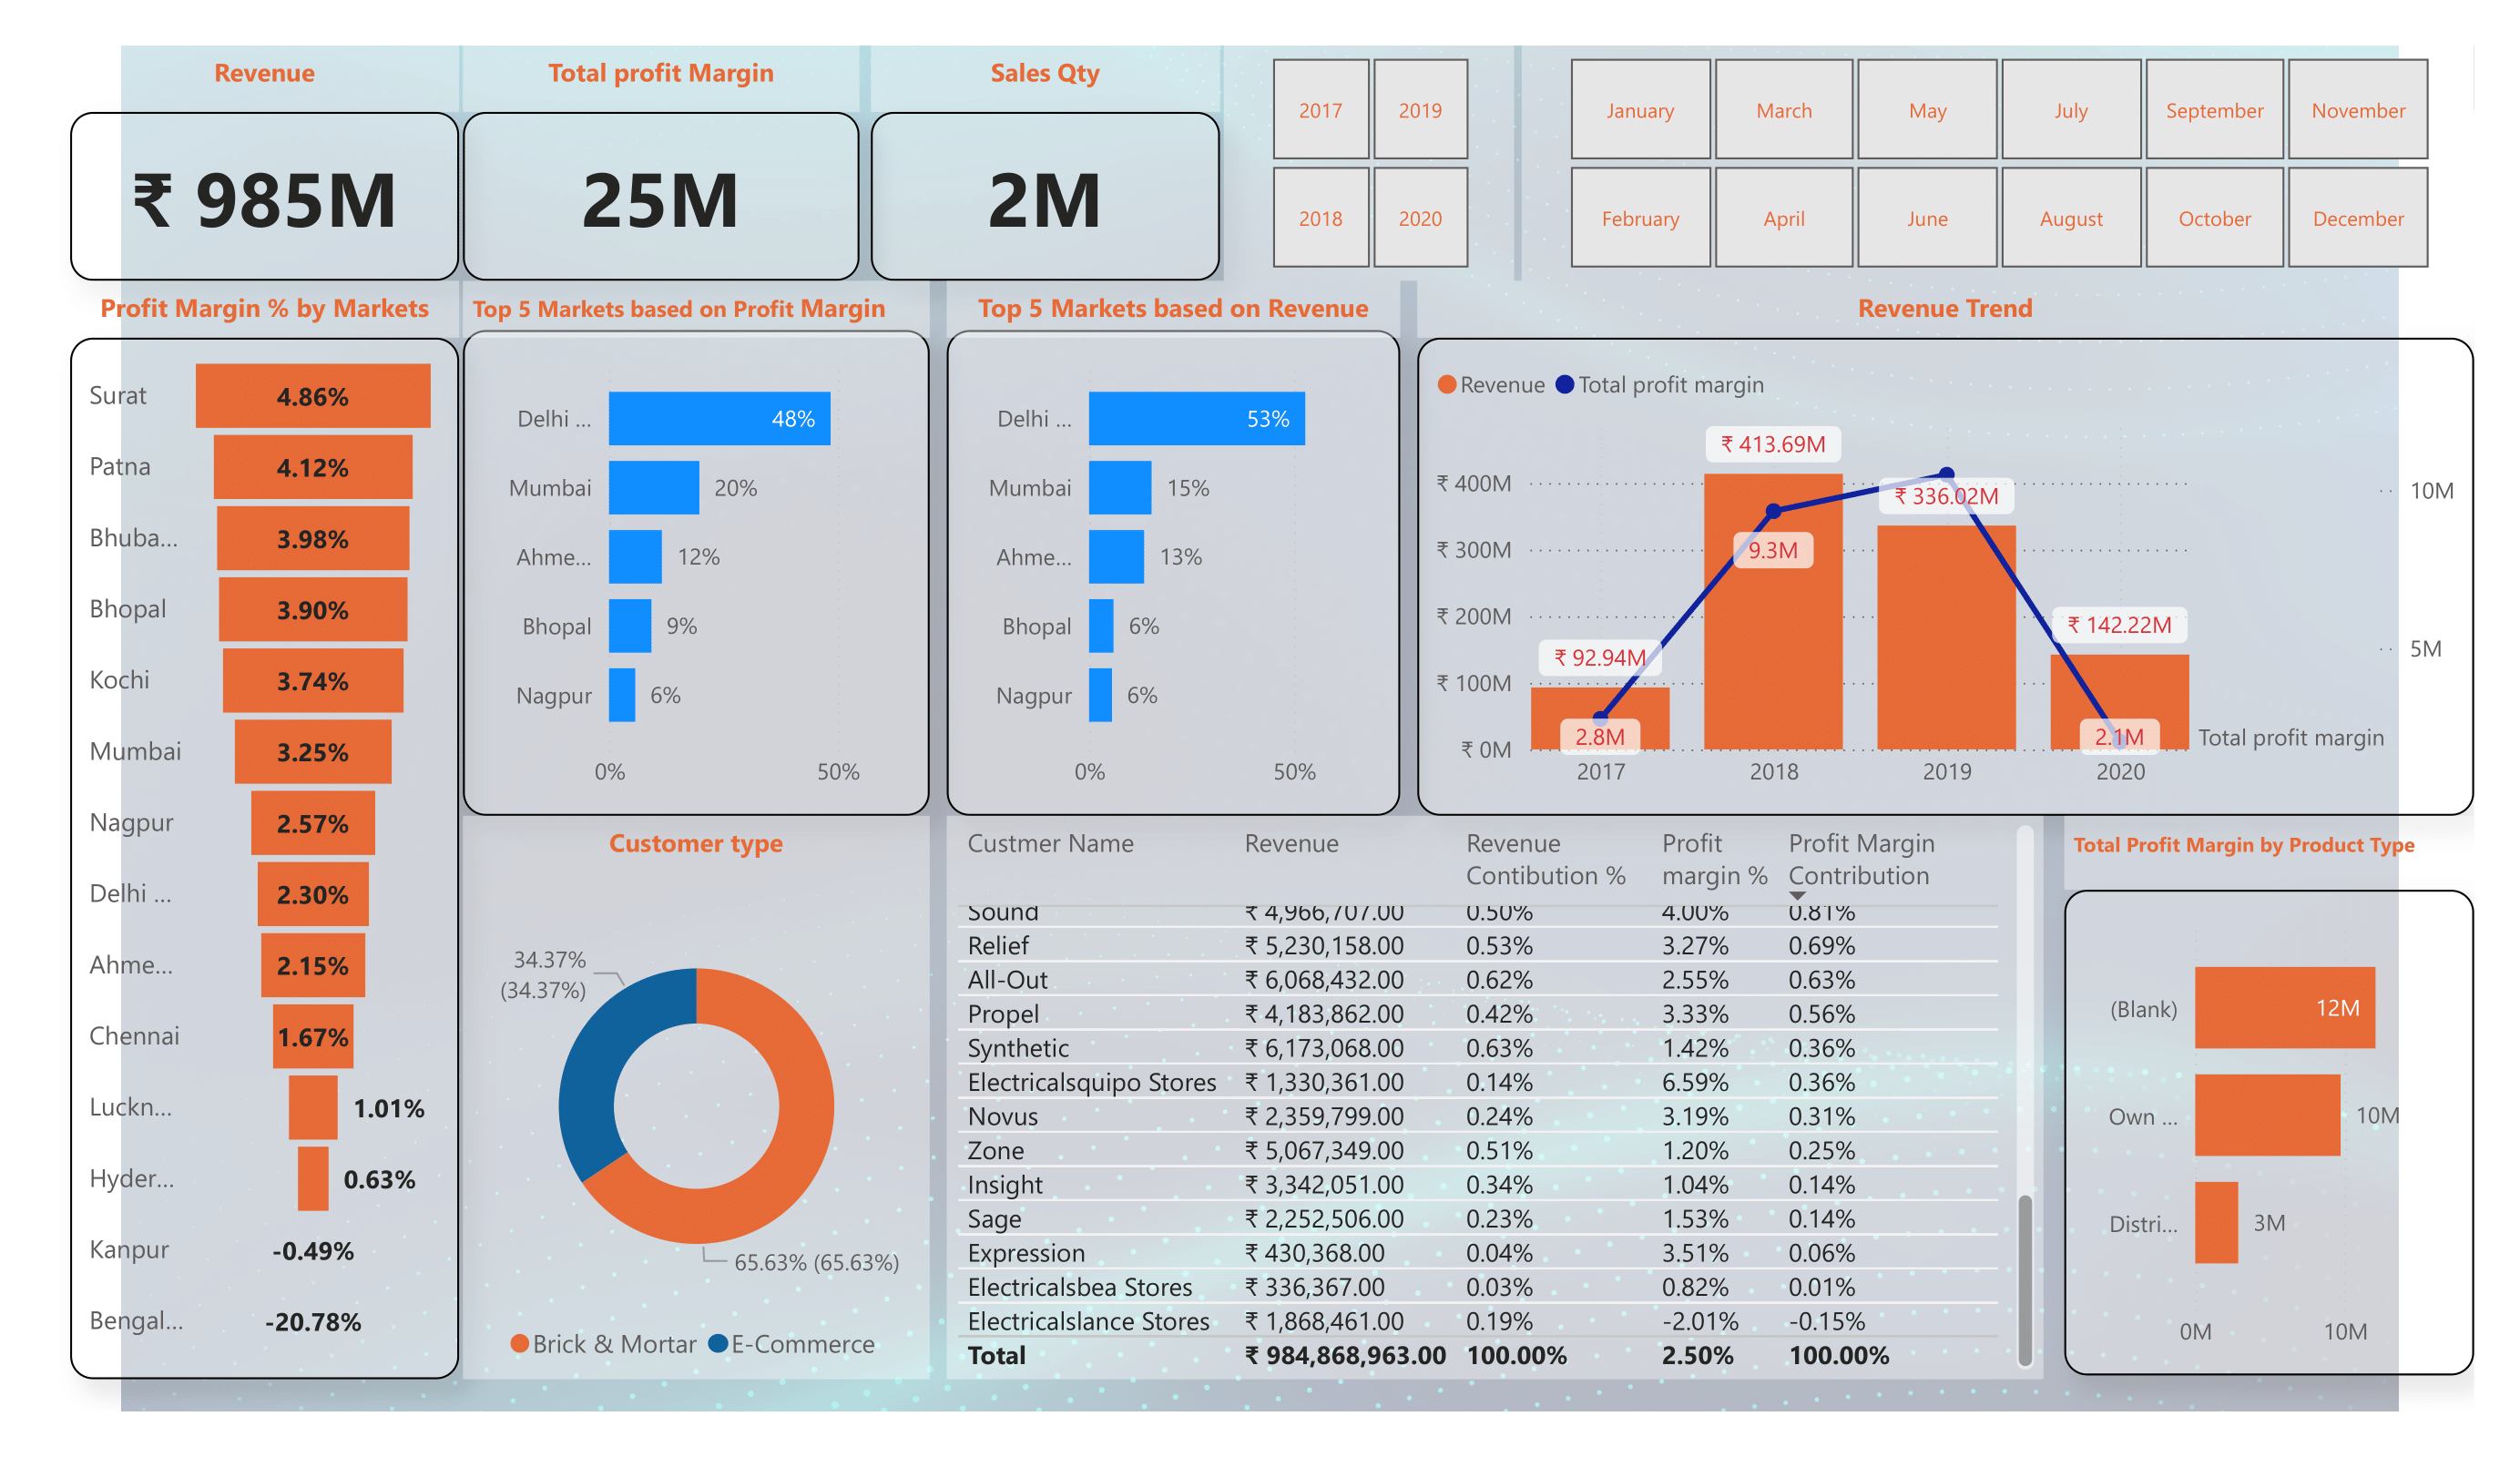

What the dashboard file says about the page in this screenshot:
{"tool":"powerbi","page":{"name":"Updated Report","canvas":[1280,720],"ordinal":1},"visuals":[{"type":"card","fields":{"Values":["measure.Revenue"]},"box":[12.5,35,205,88.8],"z":0},{"type":"card","fields":{"Values":["measure.Sales Qty"]},"box":[435,35,183.8,88.8],"z":1000},{"type":"funnel","title":"Revenue by Market","fields":{"Category":["markets.markets_name"],"Y":["measure.Profit margin %"]},"box":[12.5,153.8,205,548.8],"z":2000},{"type":"barChart","title":"Top 5 Customer by revenue","fields":{"Category":["markets.markets_name","markets.zone"],"Y":["measure.PROFIT AMRGIN CONTRUBATION %"]},"box":[220,150,246.2,256.2],"z":6000},{"type":"barChart","title":"Top 5 Products","fields":{"Category":["products.product_type"],"Y":["measure.Total profit margin"]},"box":[1063.8,445,216.2,256.2],"z":7000},{"type":"lineStackedColumnComboChart","title":"Revenue Trend","fields":{"Category":["date.year"],"Y":["measure.Revenue"],"Y2":["measure.Total profit margin"]},"box":[722.5,153.8,557.5,252.5],"z":8000},{"type":"slicer","fields":{"Values":["date.year"]},"box":[621.2,0,152.5,123.8],"z":8001},{"type":"slicer","fields":{"Values":["date.cy_date.Variation.Date Hierarchy.Month"]},"box":[777.5,0,502.5,123.8],"z":8002},{"type":"card","fields":{"Values":["measure.Total profit margin"]},"box":[220,35,208.8,88.8],"z":8003},{"type":"barChart","title":"Top 5 Customer by revenue","fields":{"Category":["markets.markets_name","markets.zone"],"Y":["measure.Revenue contrubation%"]},"box":[475,150,238.8,256.2],"z":8004},{"type":"donutChart","fields":{"Category":["customers.customer_type"],"Y":["measure.Profit Margin Contribution"]},"box":[220,445,246.2,257.5],"z":8005},{"type":"tableEx","fields":{"Values":["customers.custmer_name","measure.Revenue","measure.Revenue contrubation%","measure.Profit margin %","measure.Profit Margin Contribution"]},"box":[475,406.2,577.5,296.2],"z":8006},{"type":"textbox","box":[12.5,0,205,35],"z":8007},{"type":"textbox","box":[220,0,208.8,35],"z":8008},{"type":"textbox","box":[435,0,183.8,35],"z":8009},{"type":"textbox","box":[12.5,123.8,205,30],"z":8010},{"type":"textbox","box":[220,123.8,246.2,30],"z":8011},{"type":"textbox","box":[475,123.8,238.8,30],"z":8012},{"type":"textbox","box":[722.5,123.8,557.5,30],"z":8013},{"type":"textbox","box":[220,406.2,246.2,38.8],"z":8014},{"type":"textbox","box":[1063.8,406.2,216.2,38.8],"z":8015}]}

Visuals, with their boxes in screenshot pixels (x1, y1, x2, y2):
card - measure.Revenue: 69/112/458/280
card - measure.Sales Qty: 871/112/1219/280
"Revenue by Market" funnel: 69/337/458/1379
"Top 5 Customer by revenue" barChart: 463/330/930/816
"Top 5 Products" barChart: 2065/890/2474/1376
"Revenue Trend" lineStackedColumnComboChart: 1416/337/2474/816
slicer - date.year: 1224/46/1514/280
slicer - date.cy_date.Variation.Date Hierarchy.Month: 1521/46/2474/280
card - measure.Total profit margin: 463/112/859/280
"Top 5 Customer by revenue" barChart: 947/330/1400/816
donutChart - customers.customer_type x measure.Profit Margin Contribution: 463/890/930/1379
tableEx - customers.custmer_name x measure.Revenue: 947/816/2043/1378
textbox: 69/46/458/112
textbox: 463/46/859/112
textbox: 871/46/1219/112
textbox: 69/280/458/337
textbox: 463/280/930/337
textbox: 947/280/1400/337
textbox: 1416/280/2474/337
textbox: 463/816/930/890
textbox: 2065/816/2474/890
